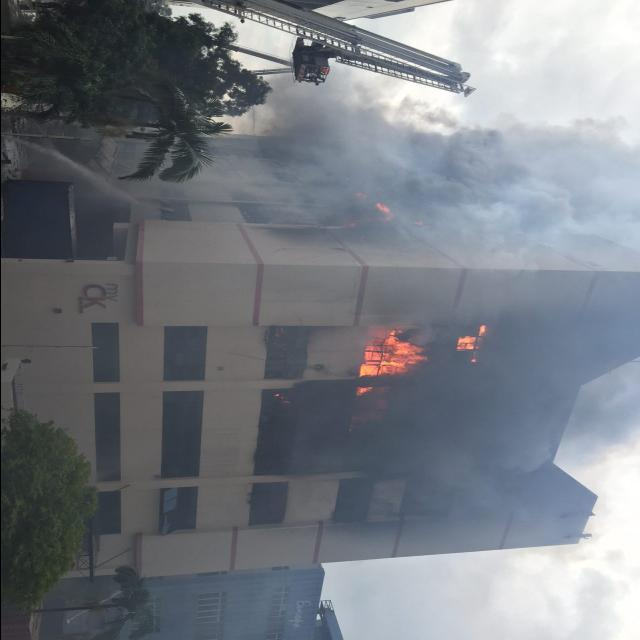Fire: (326, 310, 498, 412)
